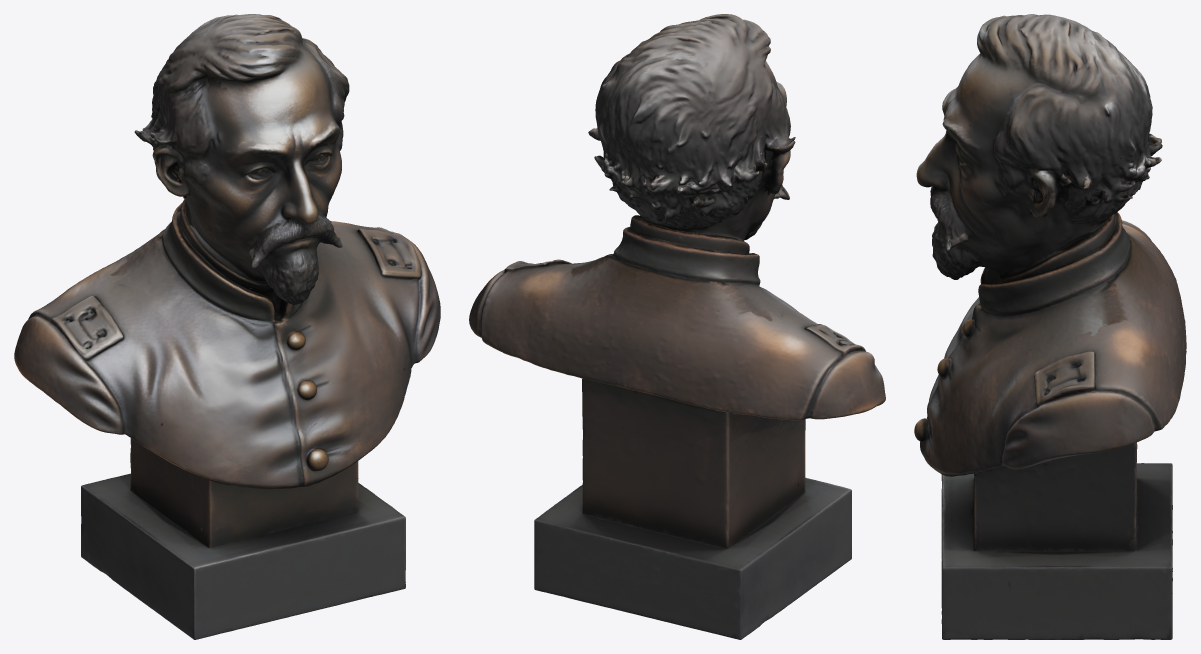
File: Bronzeherocolored.glb
3 renders of one model, left to right at view 1: azimuth 30°, elevation 25°; view 2: azimuth 150°, elevation 25°; view 3: azimuth 270°, elevation 25°, orthographic. The views are drawn at different scales.
Bounding box in the file's own units: 1.45 × 1.9 × 0.8365.
1 material, 1 textured.
